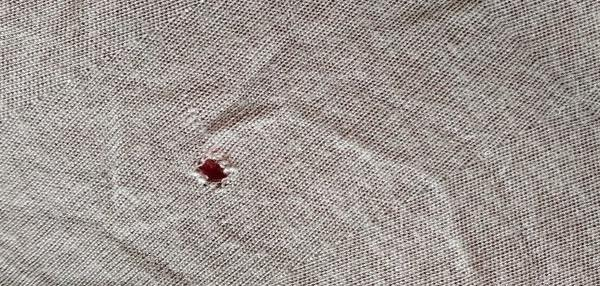hole: (184, 149, 235, 194)
